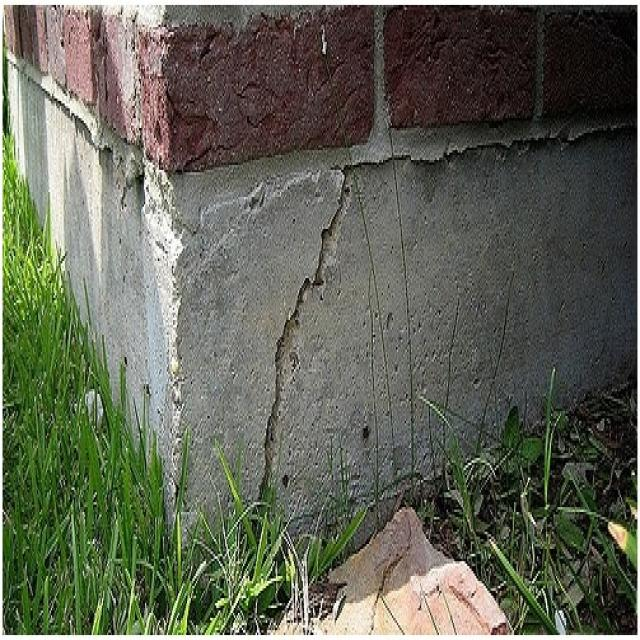diagonal crack: (250, 169, 354, 525)
